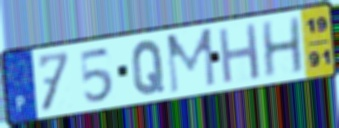5: (78, 45, 116, 105)
7: (36, 49, 71, 113)
H: (216, 21, 263, 87), (260, 15, 306, 80)
M: (164, 26, 218, 96)
Q: (130, 38, 166, 97)
